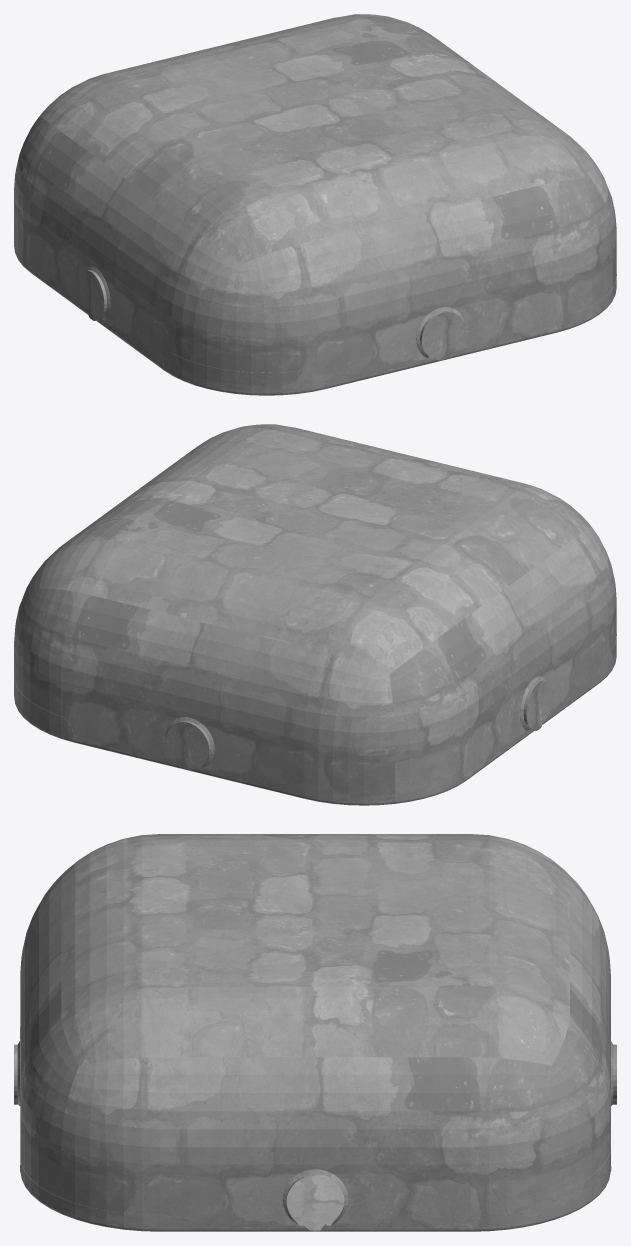
File: BigRoomEnd.fbx
3 renders of one model, top to bottom at view 1: azimuth 30°, elevation 25°; view 2: azimuth 150°, elevation 25°; view 3: azimuth 270°, elevation 25°, orthographic. The views are drawn at different scales.
Visible parts, largest first — view 1: Room.001; view 2: Room.001; view 3: Room.001.
Boxes of the visible parts, x1,y1,x2,y2 form: Room.001: [14, 14, 616, 395]; Room.001: [14, 424, 616, 805]; Room.001: [14, 834, 616, 1231].
Size of the model in its own units: 2229 by 798 by 2229.
